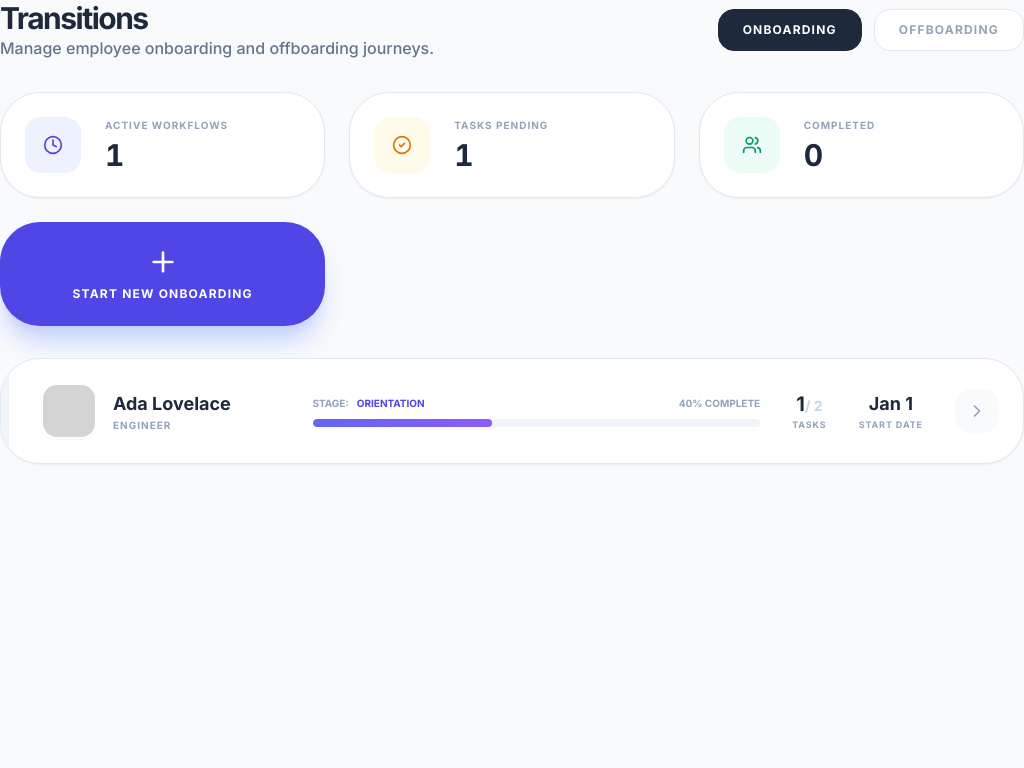
Test: Onboarding (admin transitions board) › excludes employees already mid-onboarding from the "Start New Onboarding" candidate picker
The width and height of the screenshot is (1024, 768).
Click the button "Start New Onboarding" at (163, 274), box [0,222,325,326]
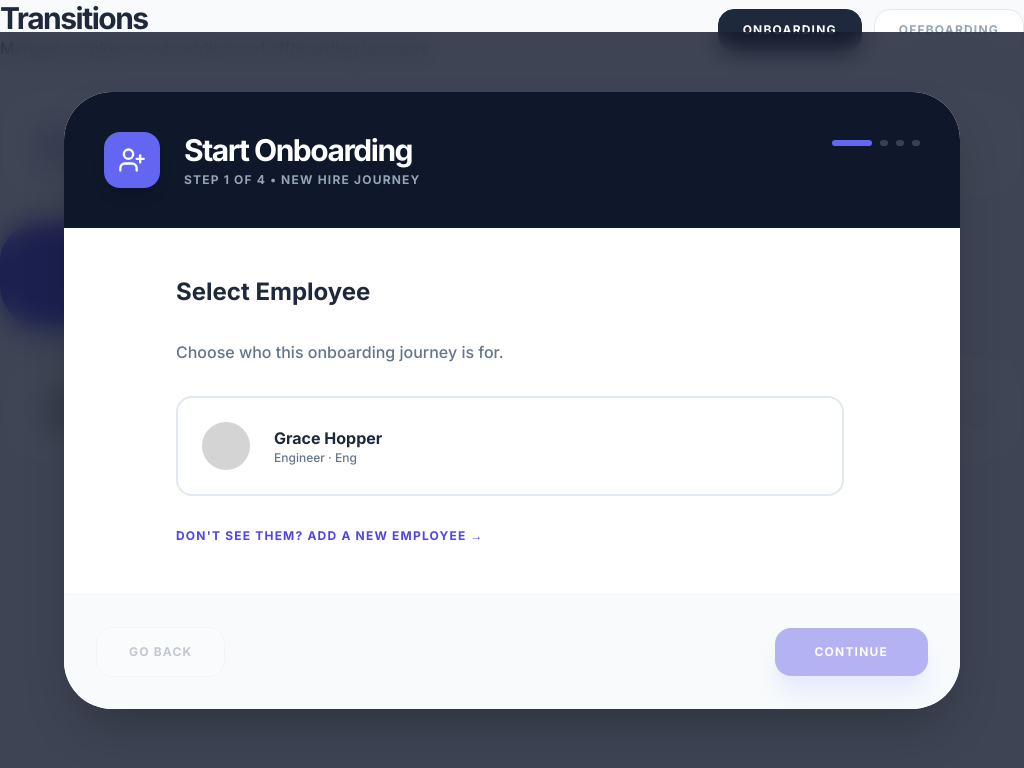
Check: the heading "Select Employee" is shown, box [176,276,370,306]
Check: the heading "Grace Hopper" is shown, box [274,426,382,450]
